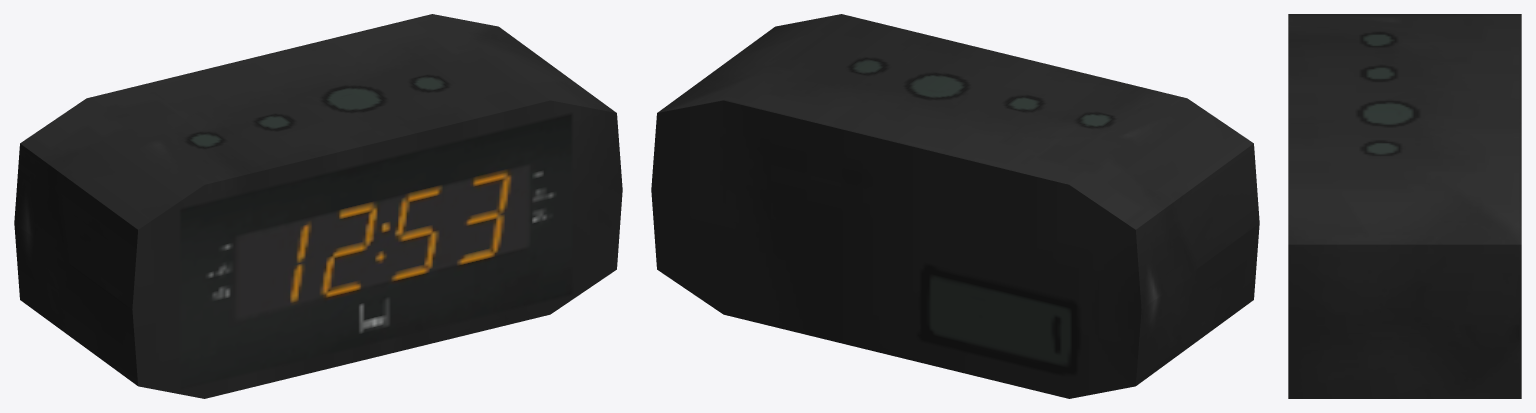
Rendered from Alarm_clock_01-col.glb.
3 views of the same model, side by side, from view 1: azimuth 30°, elevation 25°; view 2: azimuth 150°, elevation 25°; view 3: azimuth 270°, elevation 25° (orthographic).
Visible parts, largest first — view 1: Alarm_clock_01-col; view 2: Alarm_clock_01-col; view 3: Alarm_clock_01-col.
Part boxes in pixels (<box>): Alarm_clock_01-col: <box>14,14,622,398</box>; Alarm_clock_01-col: <box>651,14,1259,398</box>; Alarm_clock_01-col: <box>1288,14,1521,398</box>.
Size of the model in its own units: 1.17 by 0.4873 by 0.4873.
Materials: 1 (1 with a texture image).
